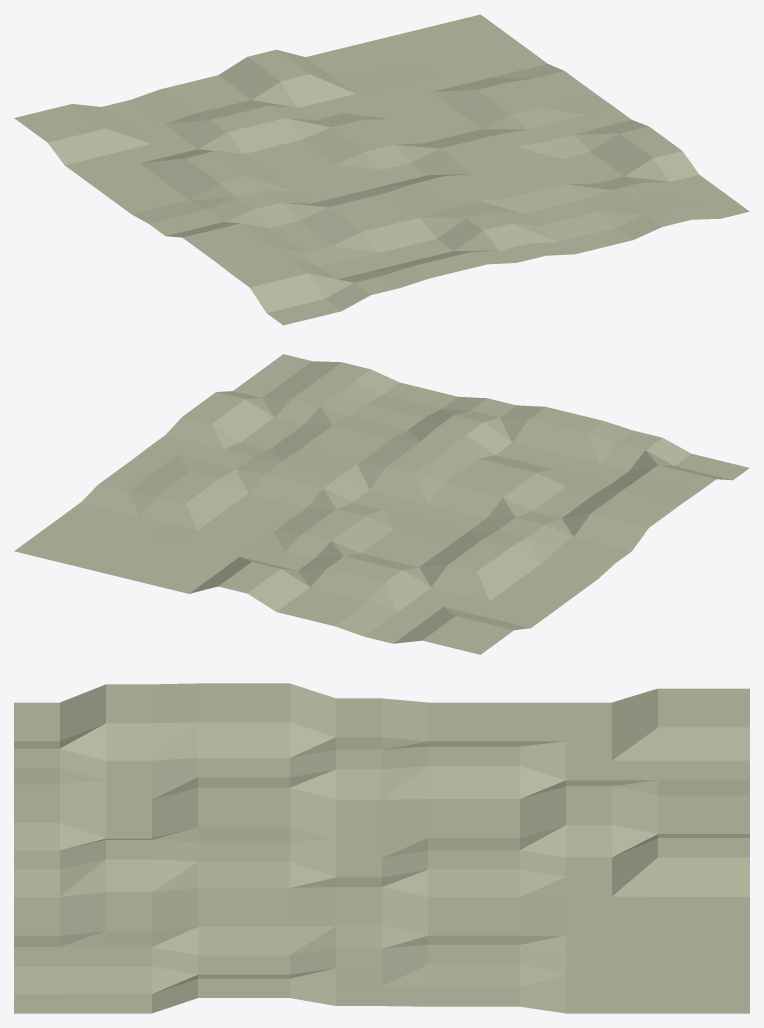
3 views of the same model, one above another, from view 1: azimuth 30°, elevation 25°; view 2: azimuth 150°, elevation 25°; view 3: azimuth 270°, elevation 25° (orthographic). The views are drawn at different scales.
Bounding box in the file's own units: 32 × 0.9571 × 32.
